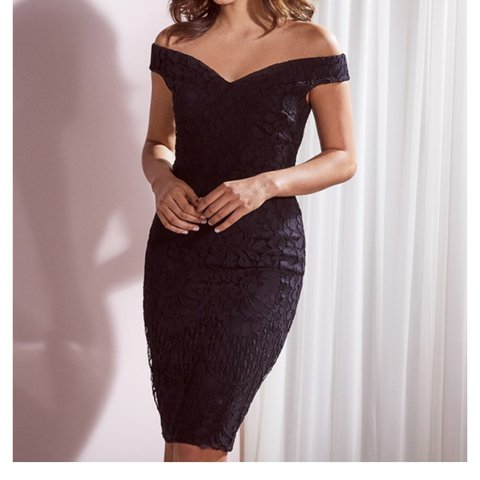S_dress: (138, 32, 349, 410)
